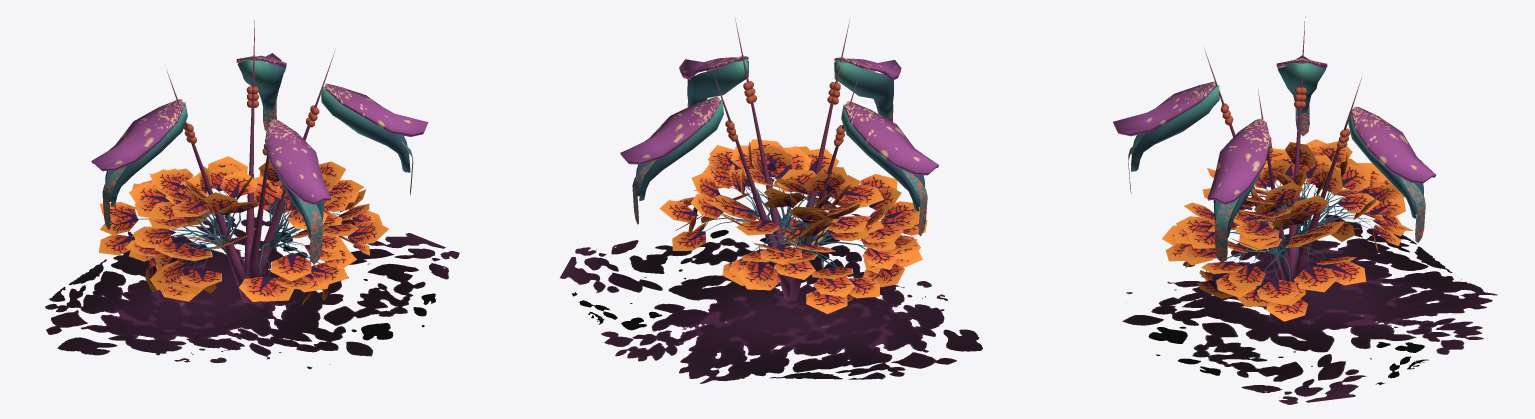
The model's file is SavachePlant.fbx.
3 views of the same model, side by side, from view 1: azimuth 30°, elevation 25°; view 2: azimuth 150°, elevation 25°; view 3: azimuth 270°, elevation 25° (orthographic). The views are drawn at different scales.
Parts seen in each view (by area): view 1: Plane.010, leaves.003, tree.003; view 2: Plane.010, leaves.003, tree.003; view 3: Plane.010, leaves.003, tree.003.
Boxes of the visible parts, x1,y1,x2,y2 form: Plane.010: (45,20,459,369); leaves.003: (98,156,388,305); tree.003: (137,188,347,276); Plane.010: (560,18,982,383); leaves.003: (659,139,927,313); tree.003: (698,164,881,269); Plane.010: (1113,16,1497,404); leaves.003: (1162,139,1413,321); tree.003: (1211,164,1372,283).
Size of the model in its own units: 571 by 343 by 571.
Materials: 1 (1 with a texture image).
